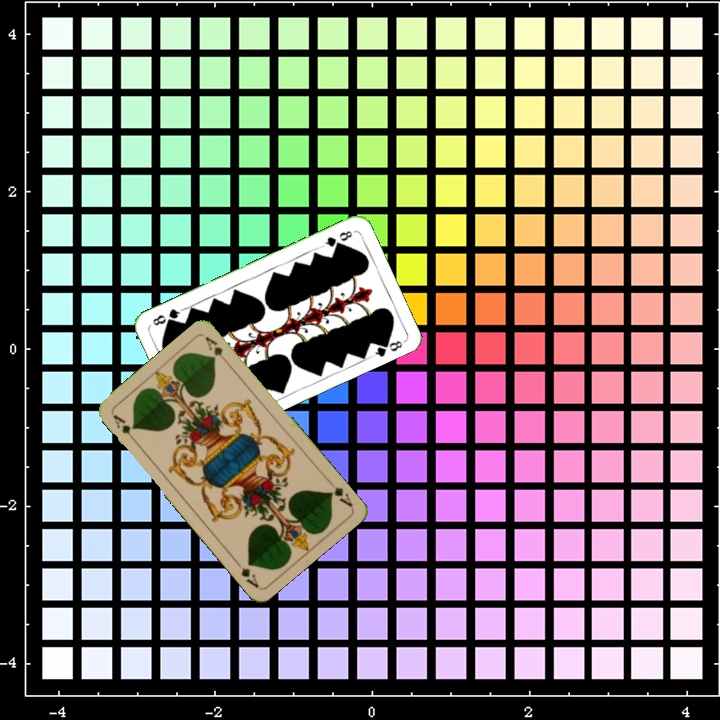G8: (318, 226, 355, 250)
GA: (323, 476, 355, 509), (109, 410, 138, 444)
